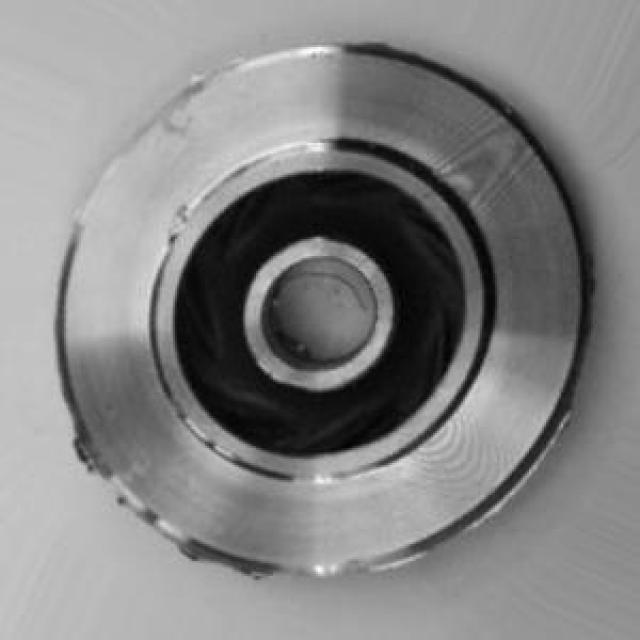Defect: (143, 505, 232, 574), (68, 428, 113, 485), (161, 206, 201, 236)
